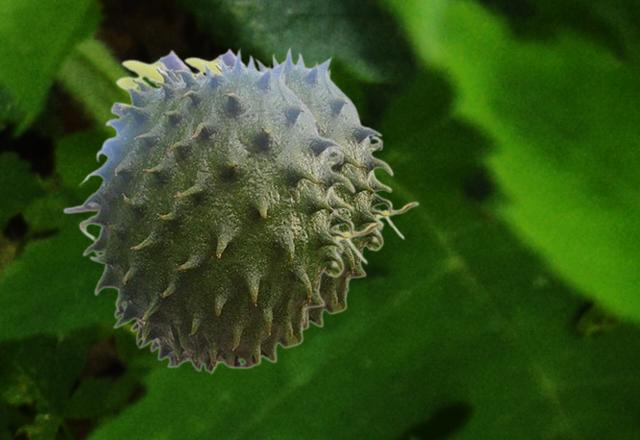guyabano: (62, 46, 384, 374), (183, 45, 419, 330)
